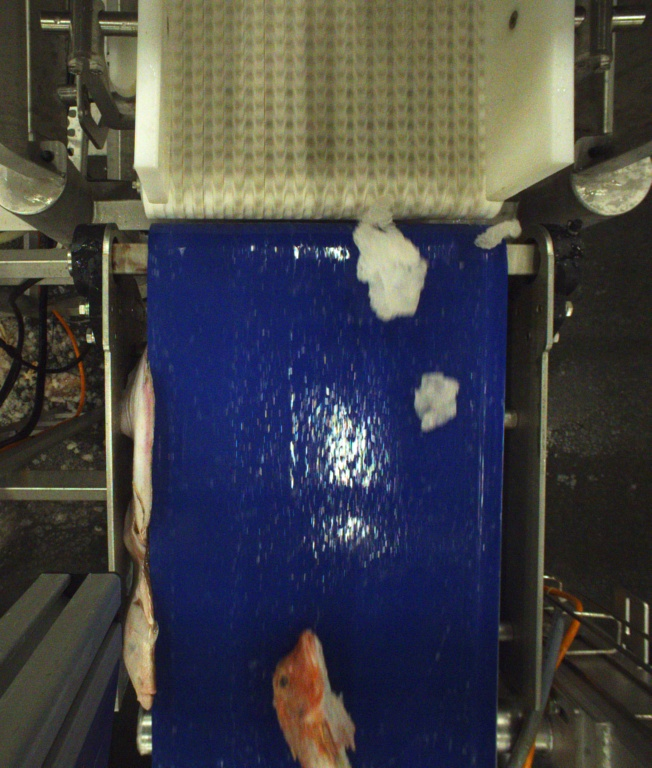GUU: (272, 629, 361, 768)
